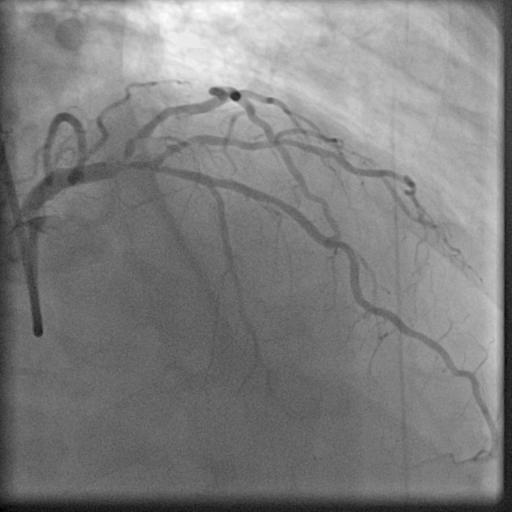Stenosis: (123, 129, 142, 152)
